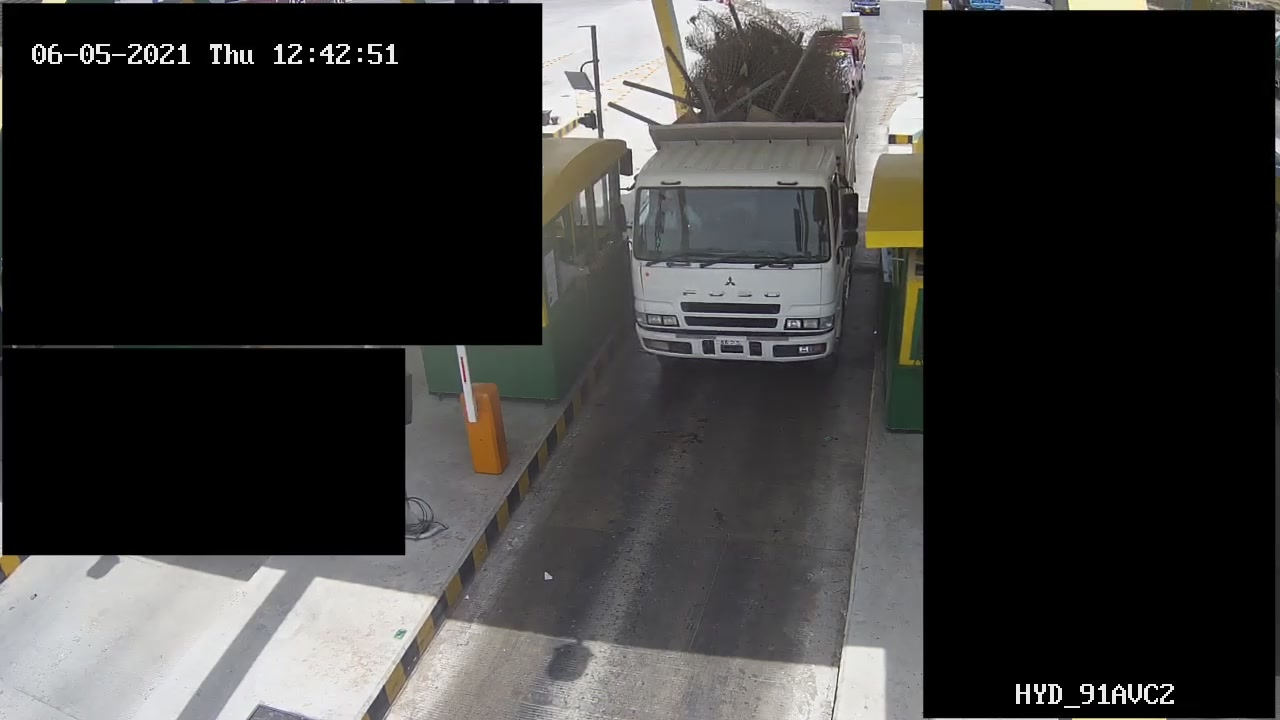F5: (626, 12, 874, 379)
